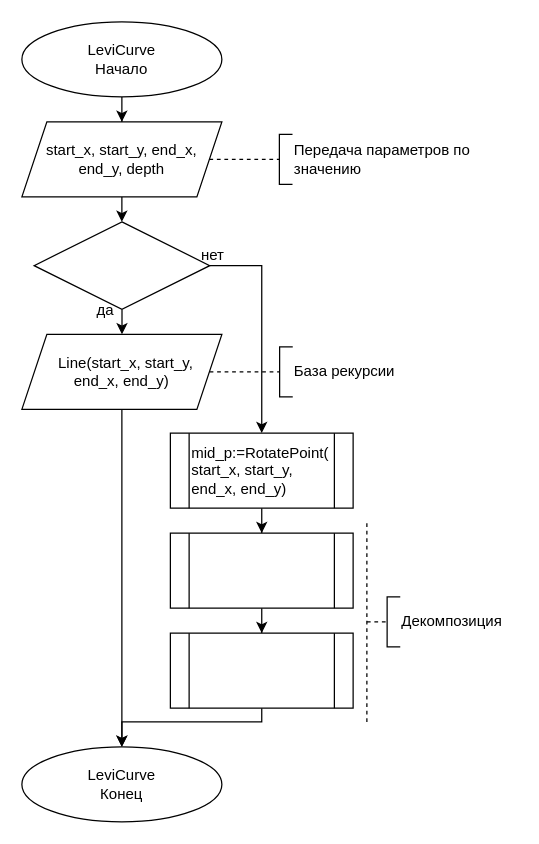
Some shapes in this 539 by 844 pixel diagram are drawn without their labels. Here are the shapes that lost their labels. From the top down, the centre of each, then its label:
point 121,265: depth = 0
point 261,570: LeviCurve(start_x, start_y, mid_p.x, mid_p.y, depth - 1)
point 261,670: LeviCurve(mid_p.x, mid_p.y, end_x, end_y, depth - 1)
